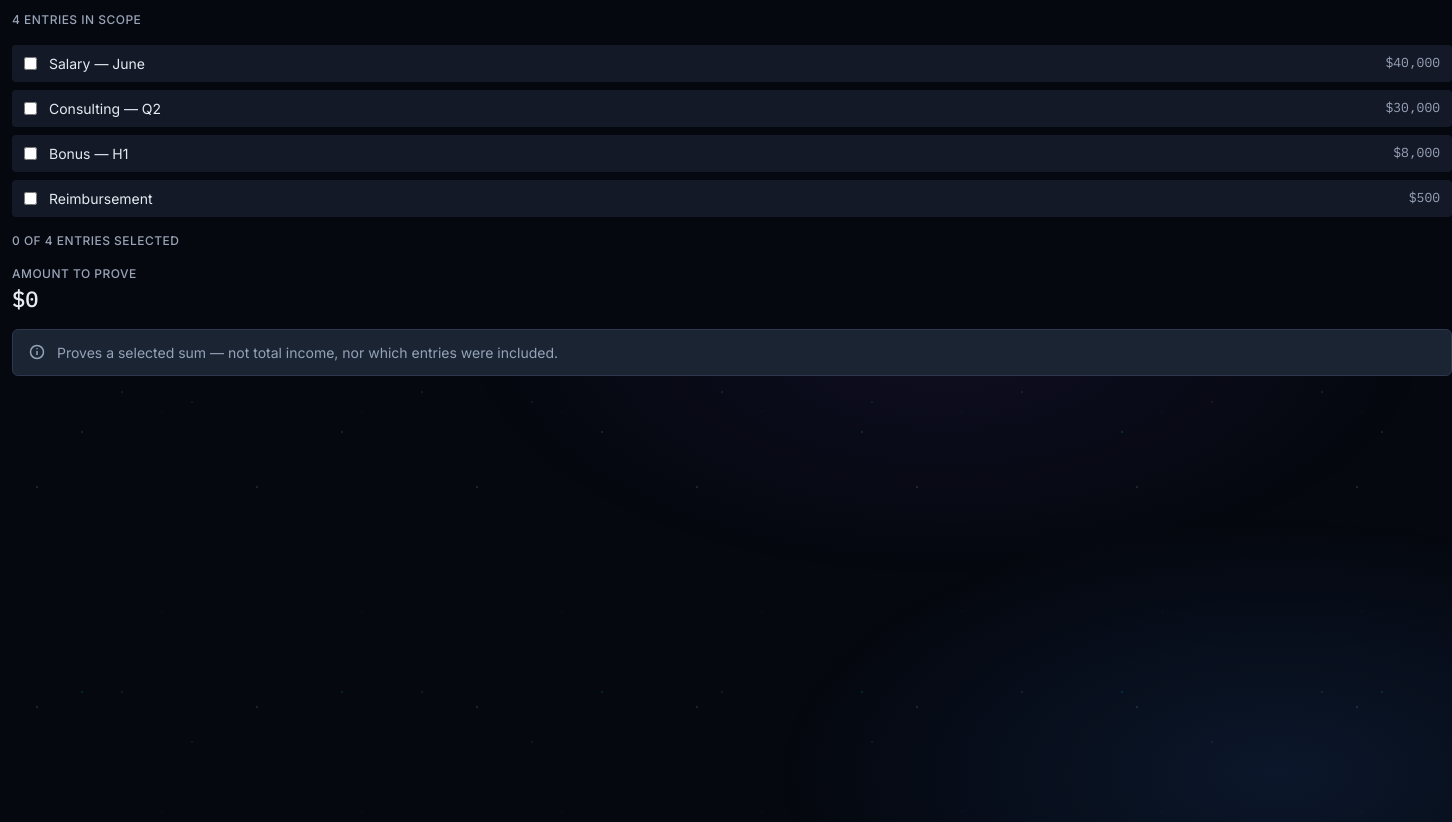
Test case: SelectEntries — bound-and-reject then unblock › deselecting A re-enables B
Note: Select A — B gets disabled
Click the checkbox labelled "Salary — June $40,000" at (30, 63), box [24,57,37,70]
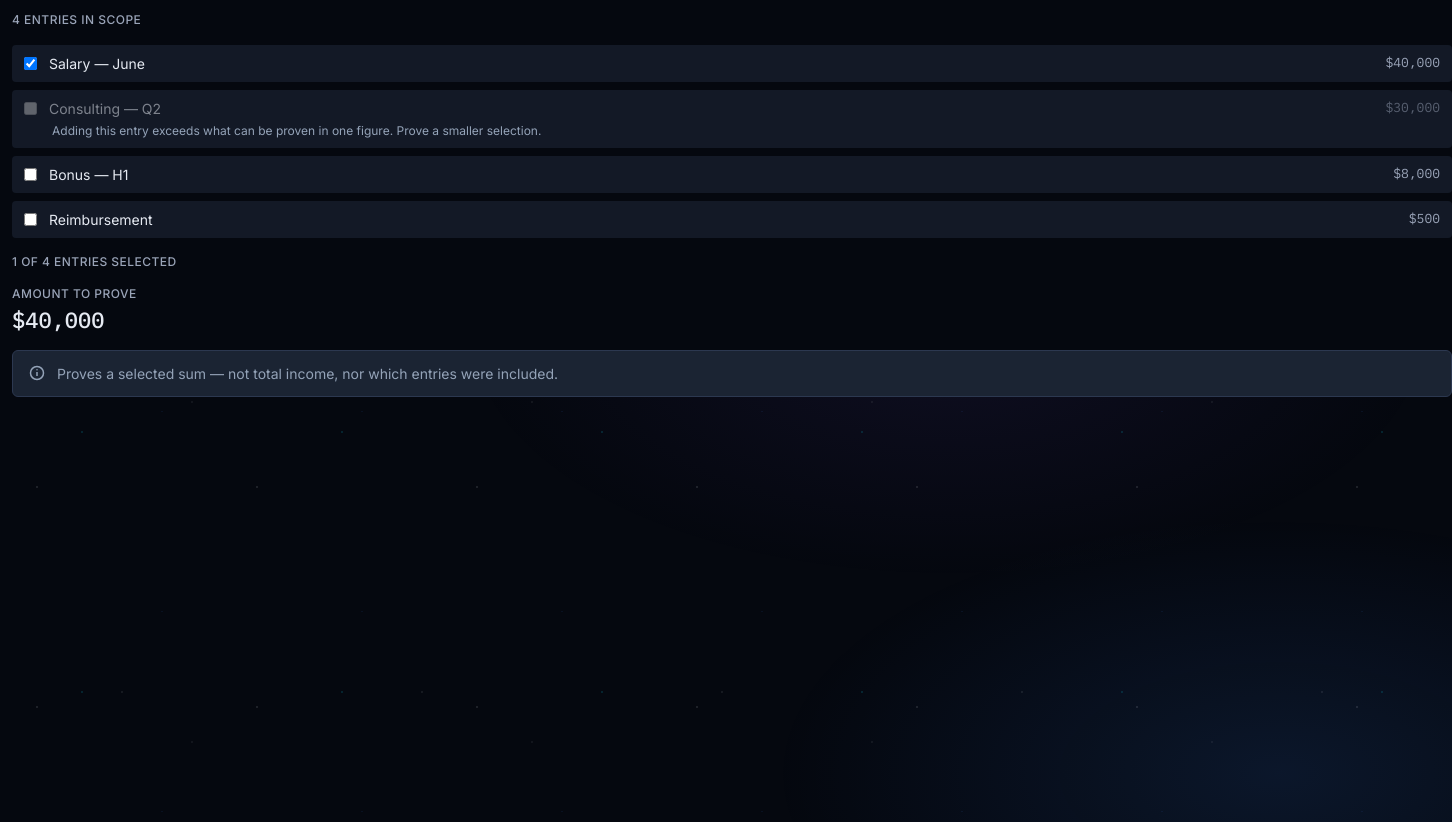
Expected: the checkbox labelled "Consulting — Q2 $30,000" is disabled, [24,102,37,115]
Note: Deselect A — B should be enabled again
Click the checkbox labelled "Salary — June $40,000" at (30, 63), box [24,57,37,70]
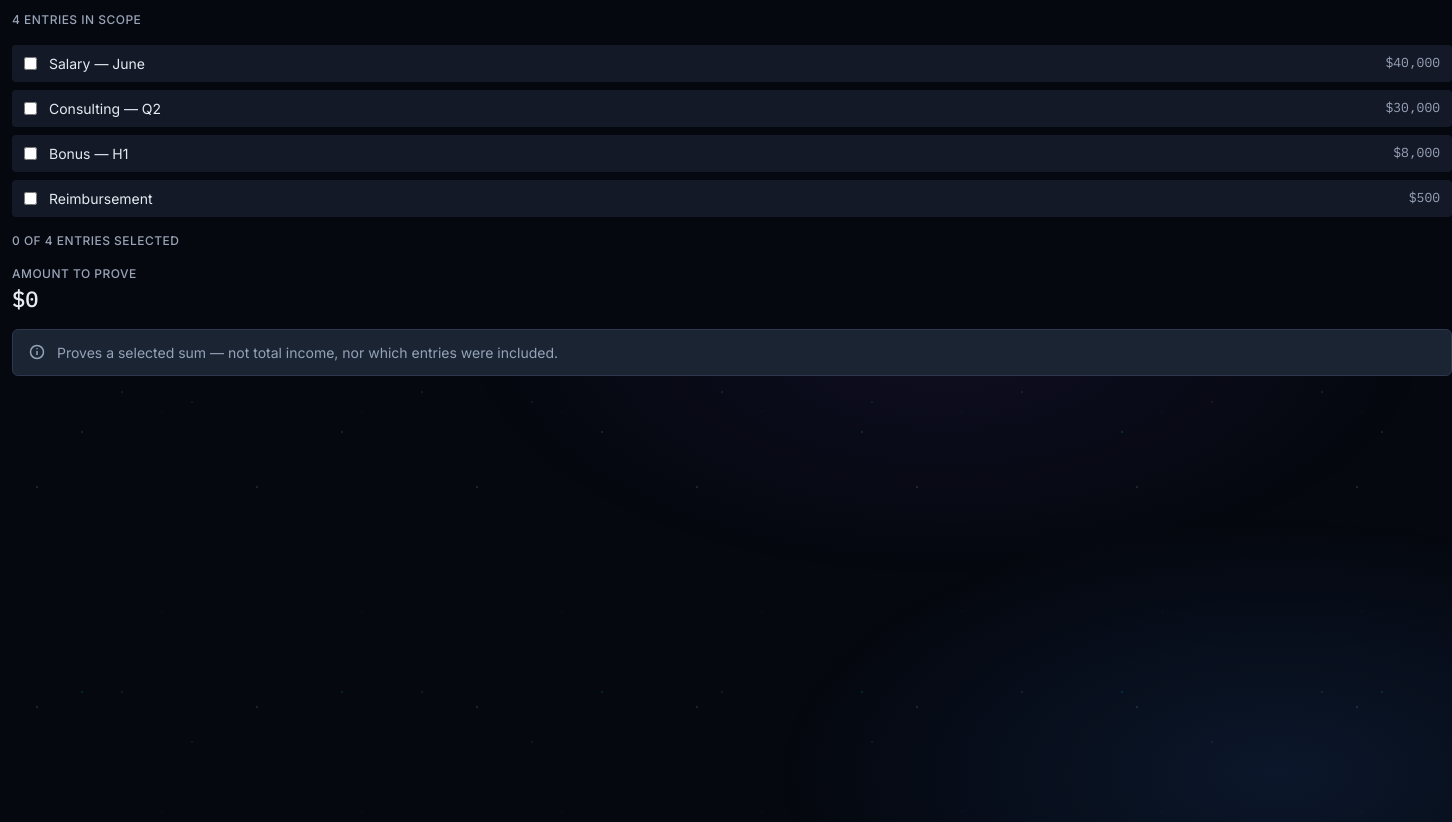
Expected: the checkbox labelled "Consulting — Q2 $30,000" is enabled, [24,102,37,115]
